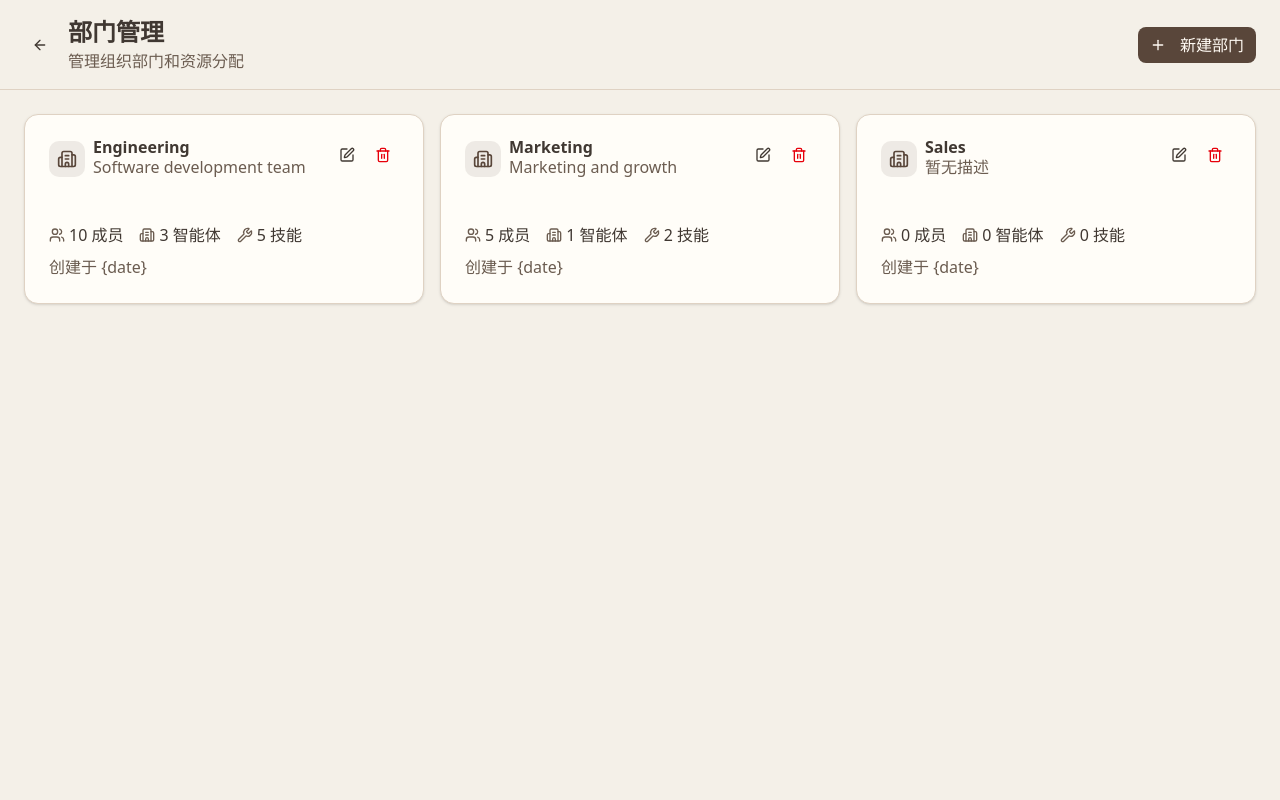
Test: DepartmentsPage › closes edit dialog when cancel is clicked
The width and height of the screenshot is (1280, 800).
Expected: the element with test id "department-list" is shown, [24,114,1256,304]
What coordinates should you click on to do the following:
click the button with test id "department-edit-button"
I would click on:
 (347, 155)
Its box is [331,139,363,171].
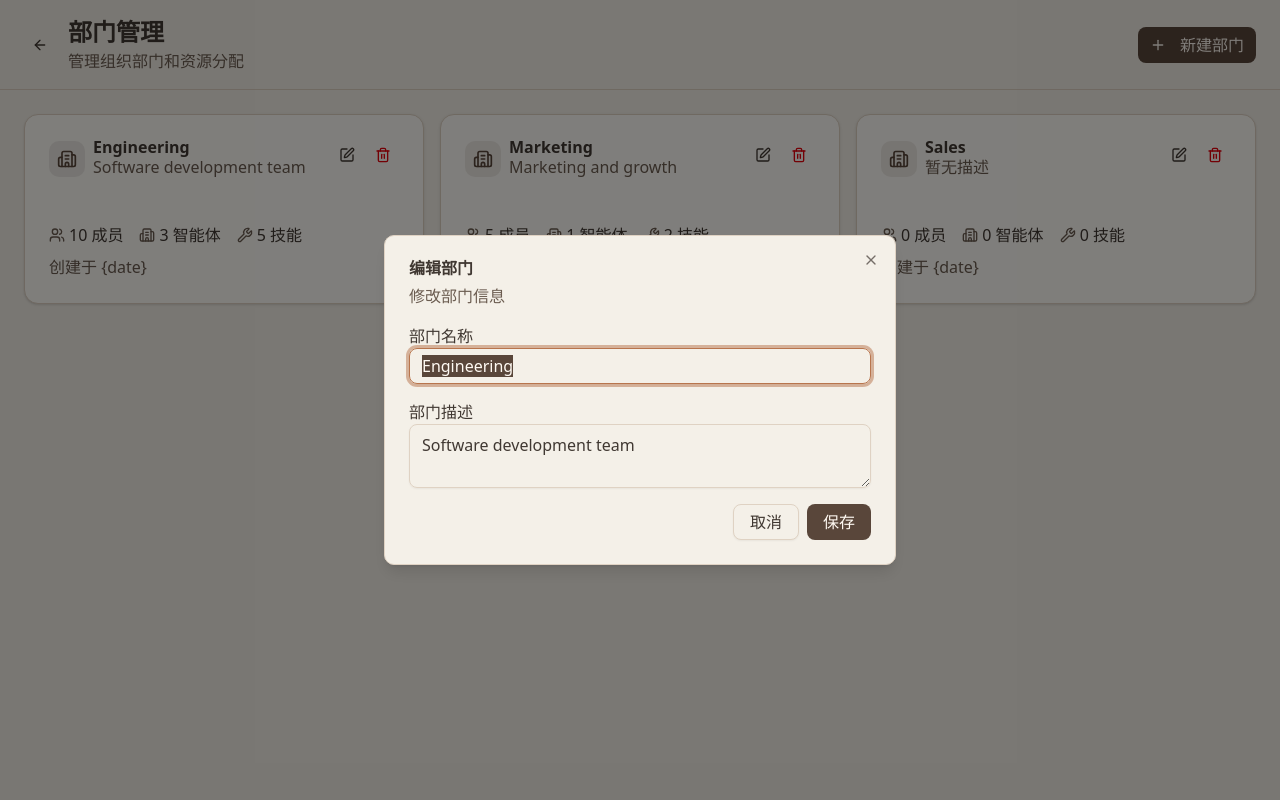
Result: the text "修改部门信息" is shown at [409,285,505,307]
What coordinates should you click on to do the following:
click the button "取消"
I would click on:
 (766, 522)
Its box is [733,504,799,540].
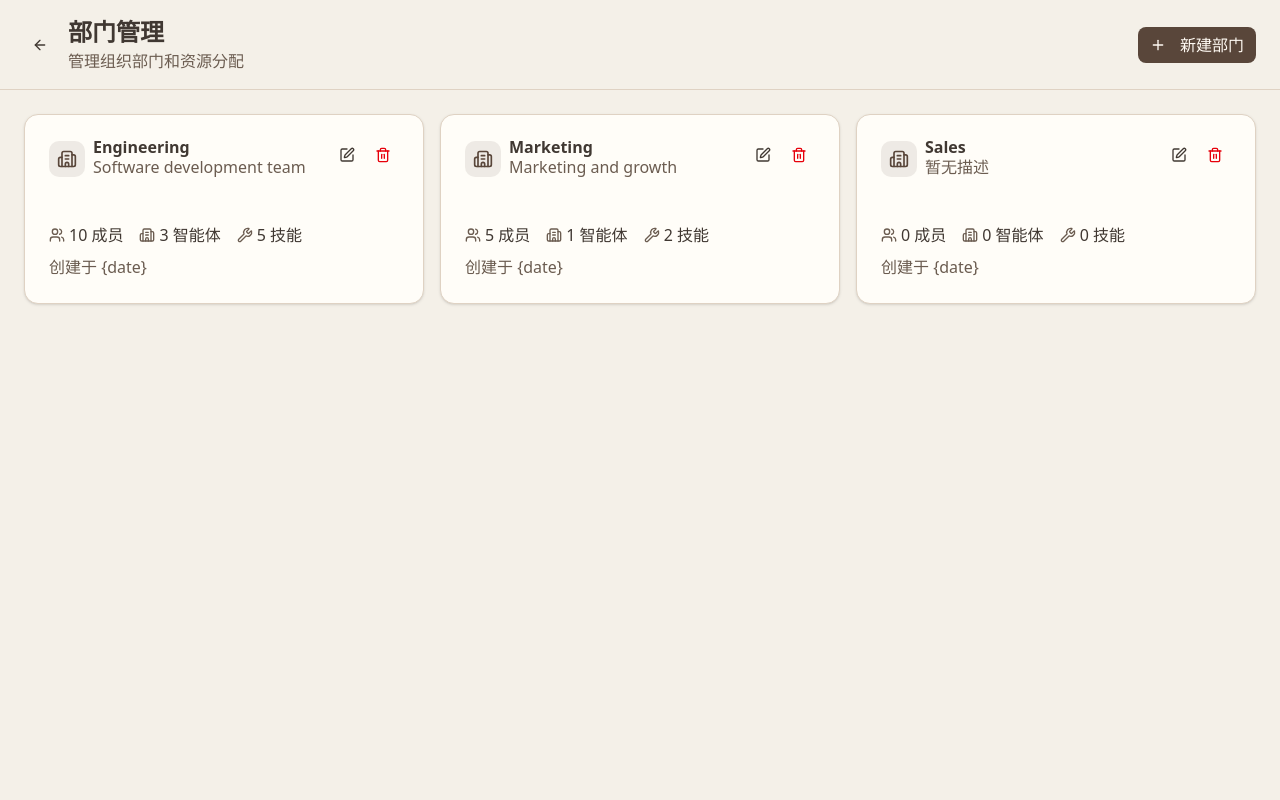
Result: the text "修改部门信息" is gone
